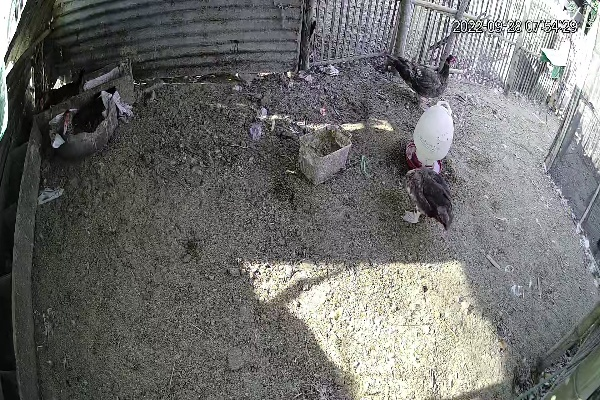Entog: (384, 46, 464, 108), (399, 163, 465, 233)
